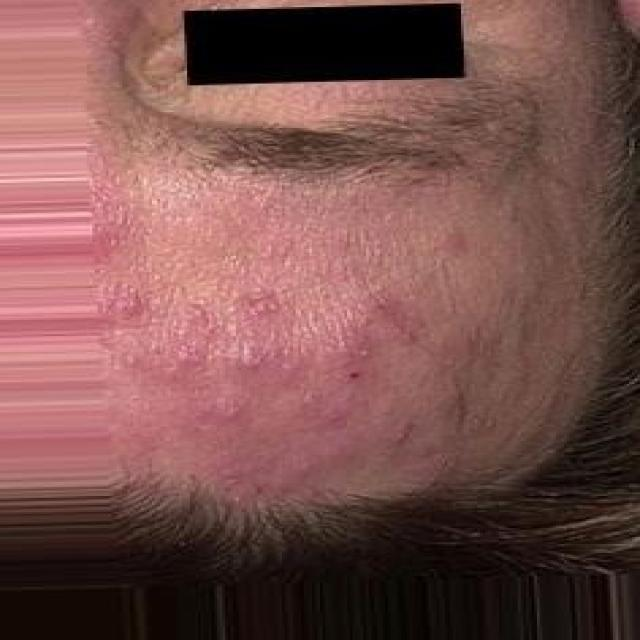Rosacea: (99, 187, 429, 473)
